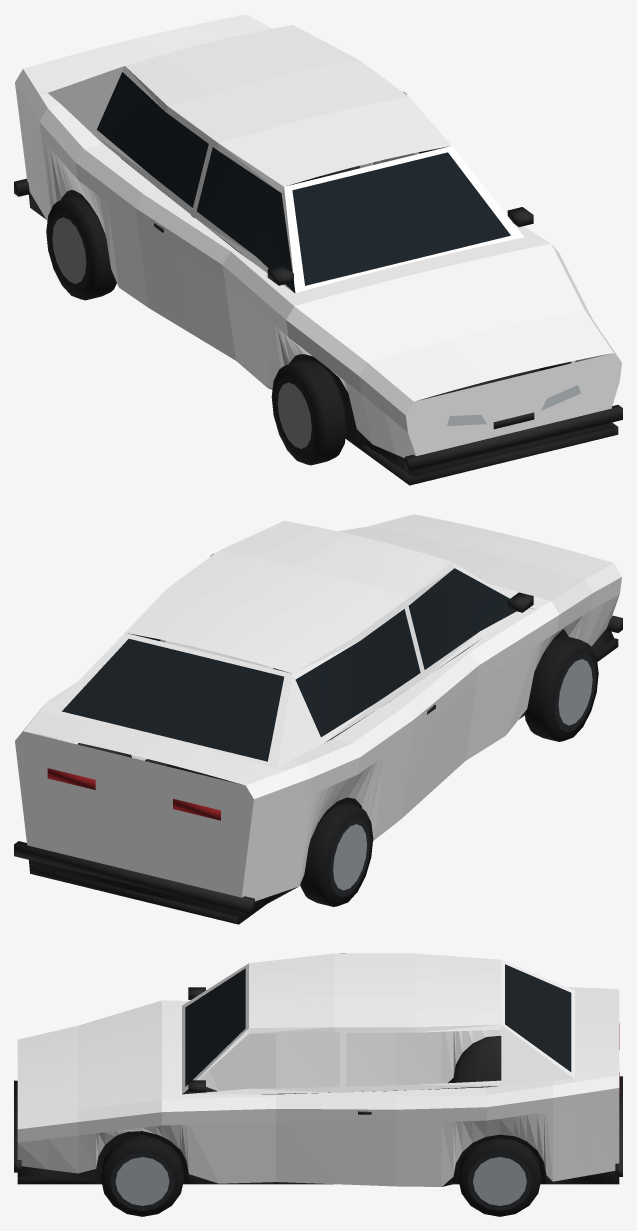
The model's file is pemberly_claustro.glb.
3 views of the same model, one above another, from view 1: azimuth 30°, elevation 25°; view 2: azimuth 150°, elevation 25°; view 3: azimuth 270°, elevation 25° (orthographic). The views are drawn at different scales.
Visible parts, largest first — view 1: Body_Paint, Body_Details, Mount_FrontLeft_Wheel_Details, Mount_RearLeft_Wheel_Details; view 2: Body_Paint, Body_Details, Mount_FrontLeft_Wheel_Details, Mount_RearLeft_Wheel_Details; view 3: Body_Paint, Body_Details, Mount_FrontRight_Wheel_Details, Mount_RearRight_Wheel_Details.
Part boxes in pixels (bbox=[...]): Body_Paint: bbox=[15, 14, 621, 458]; Body_Details: bbox=[14, 72, 622, 485]; Mount_FrontLeft_Wheel_Details: bbox=[271, 359, 346, 465]; Mount_RearLeft_Wheel_Details: bbox=[46, 195, 116, 300]; Body_Paint: bbox=[15, 514, 621, 901]; Body_Details: bbox=[14, 568, 622, 924]; Mount_FrontLeft_Wheel_Details: bbox=[524, 635, 598, 741]; Mount_RearLeft_Wheel_Details: bbox=[300, 802, 373, 906]; Body_Paint: bbox=[17, 953, 619, 1186]; Body_Details: bbox=[14, 964, 622, 1186]; Mount_FrontRight_Wheel_Details: bbox=[101, 1135, 183, 1216]; Mount_RearRight_Wheel_Details: bbox=[458, 1138, 541, 1216].
Size of the model in its own units: 1.91 by 1.43 by 4.47.
Materials: 2 (1 with a texture image).
